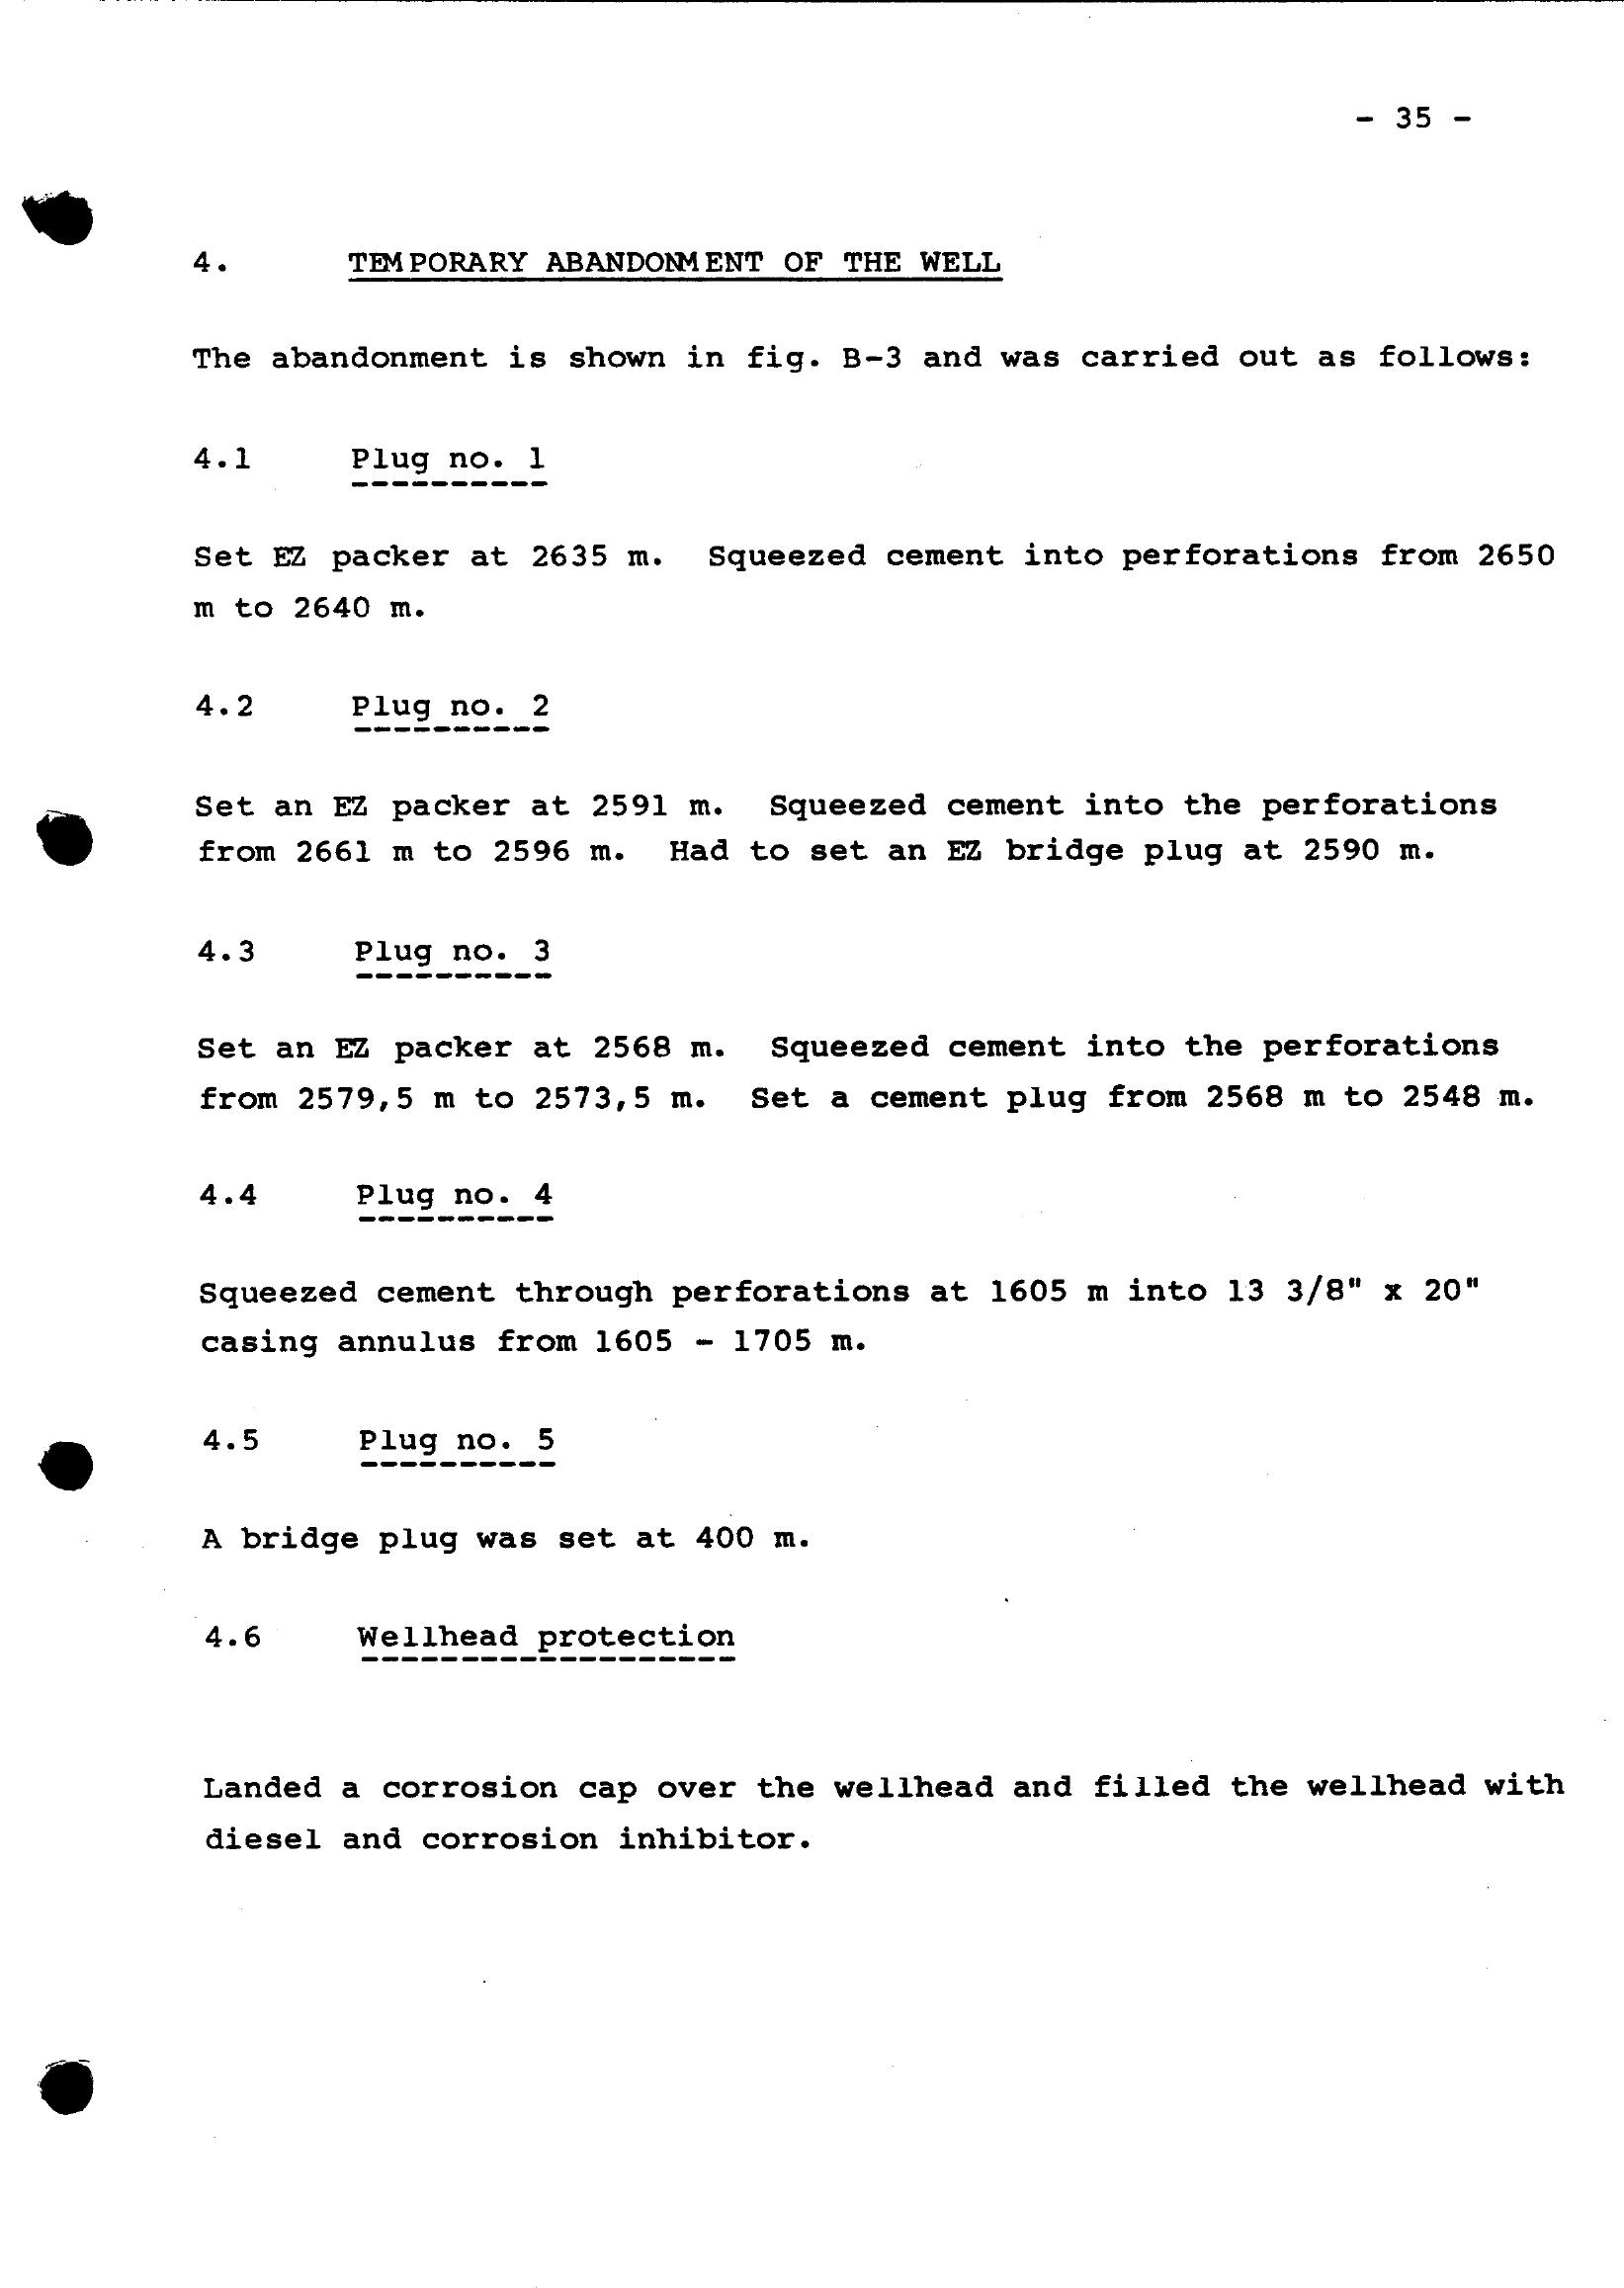text: (144, 214, 1606, 1889)
